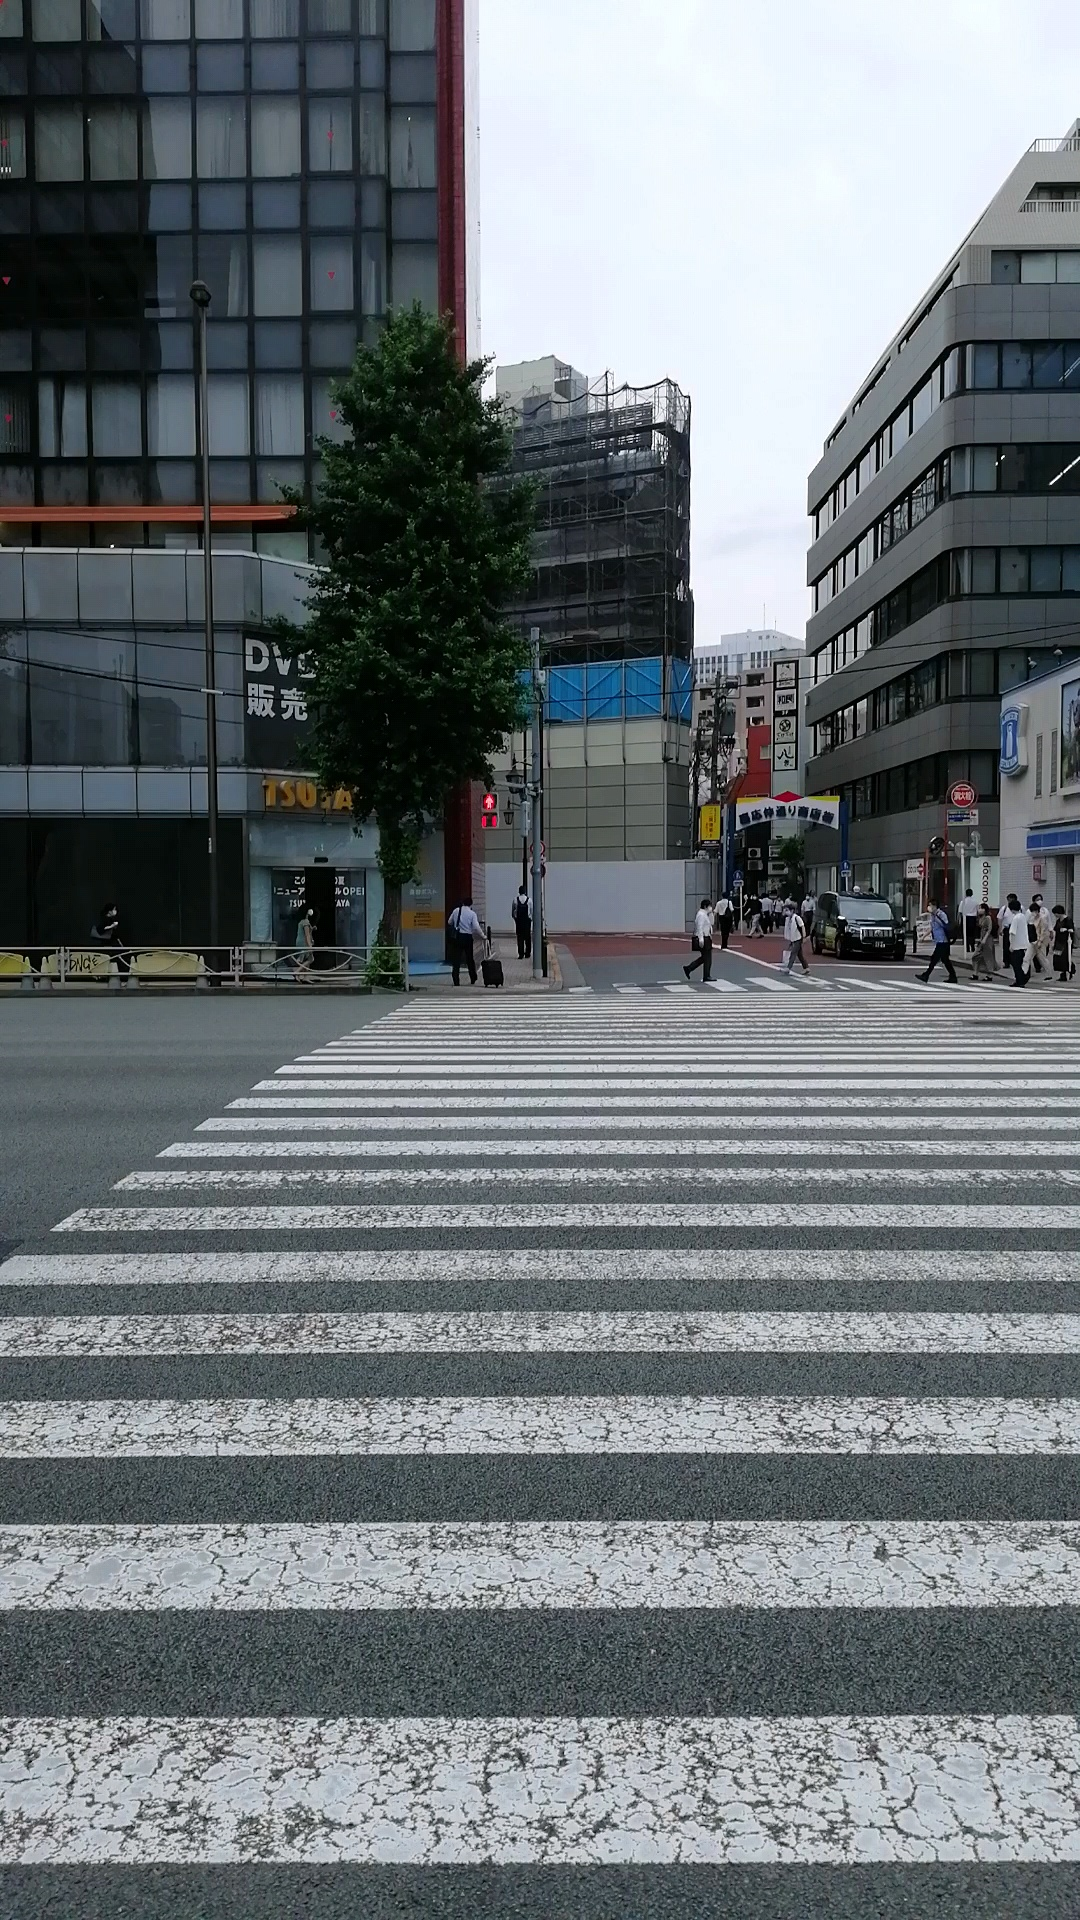red: (477, 789, 501, 832)
